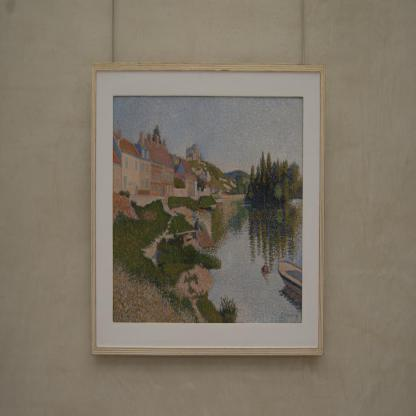Picture-frame: (92, 64, 326, 356)
